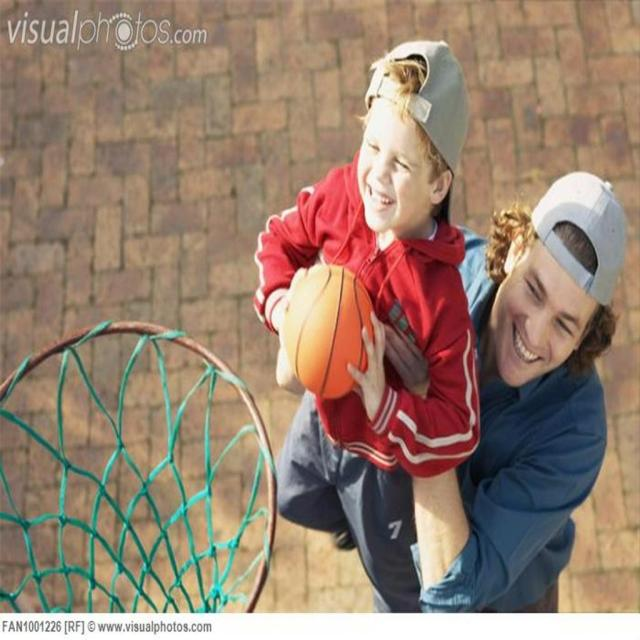Face: (492, 235, 600, 397), (347, 104, 449, 241)
